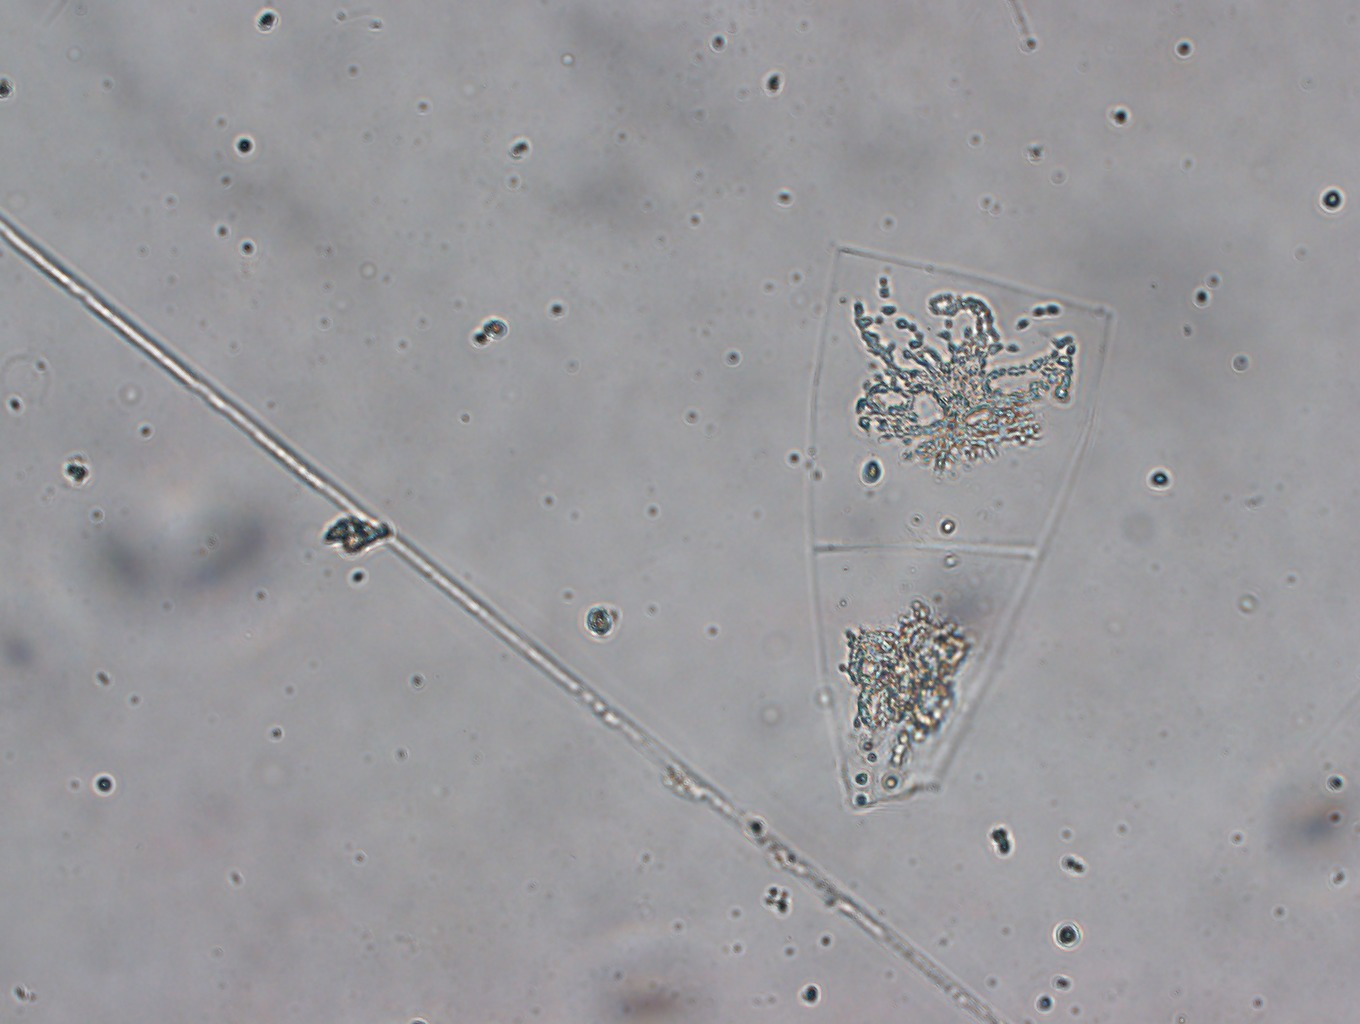helicotheca: (808, 246, 1114, 808)
